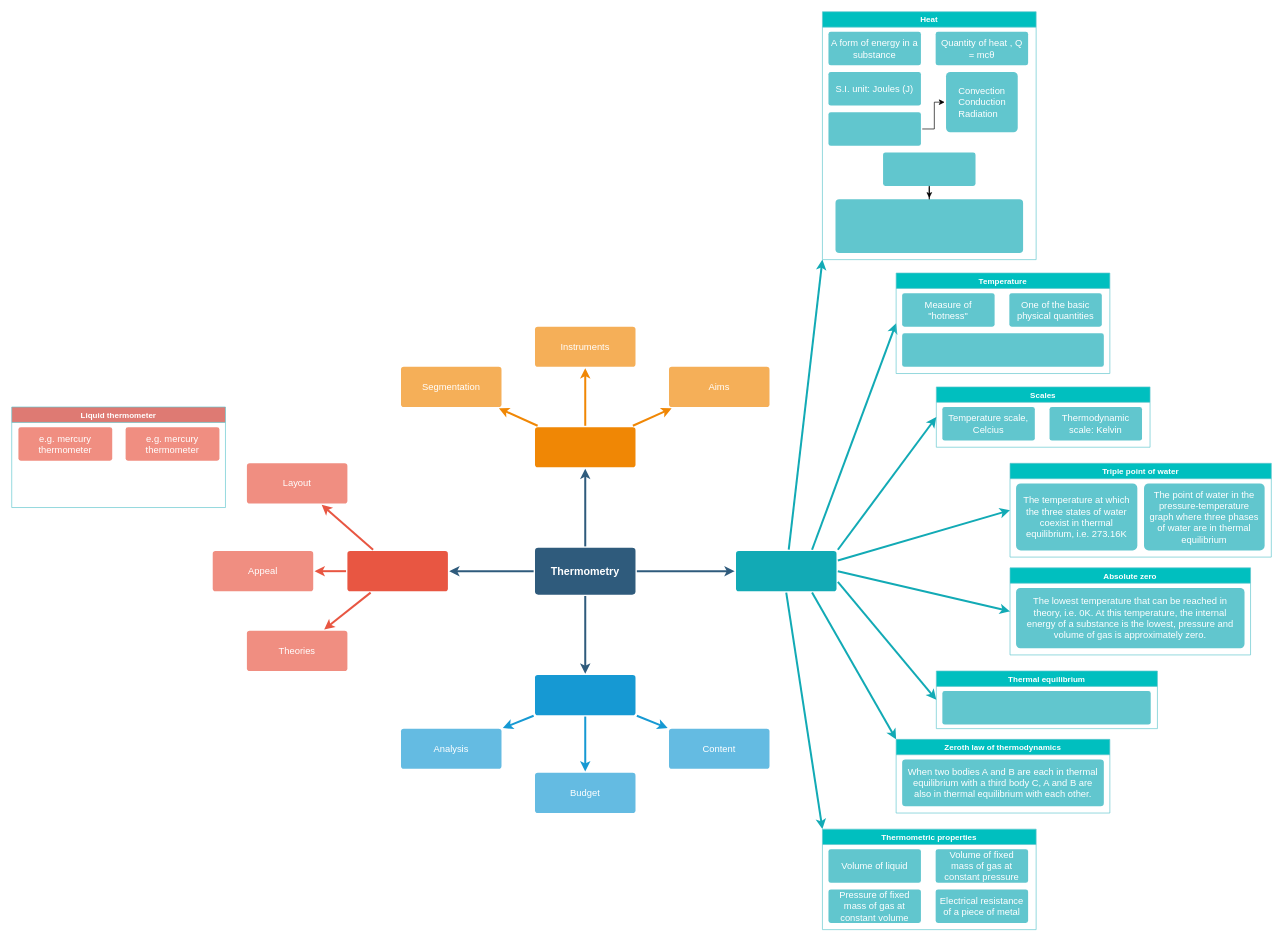
The diagram is 1283 pixels wide and 941 high, and some of its shapes have lost their labels. Each missing label, with the centre of its shape:
"Change in temperature Change of physical state Expansion Electrical effects" goes at (x=929, y=226).
"Definitions" goes at (x=786, y=571).
"Effects" goes at (x=929, y=169).
"Marketing" goes at (x=585, y=447).
"Organization" goes at (x=585, y=695).
"S.I. unit: Kelvin (K); Other units: Celcius(°C), Ferenheit (°F)" goes at (x=1002, y=349).
"Transmission of heat" goes at (x=874, y=128).
"Two bodies are in thermal contact and there is no net flow of heat between them" goes at (x=1046, y=707).
"Types of thermometers" goes at (x=397, y=571).
